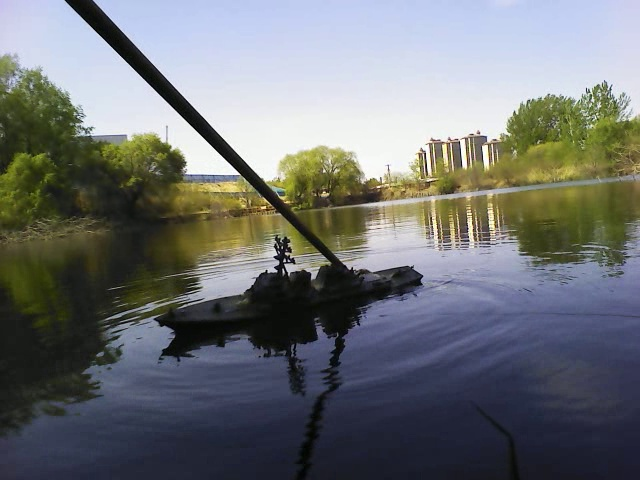warship: (148, 241, 428, 324)
